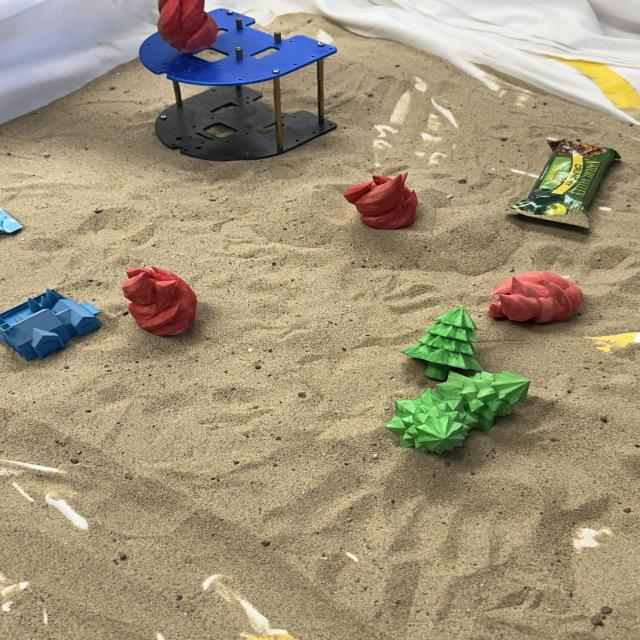fire: (120, 263, 198, 337), (489, 270, 584, 326), (341, 170, 420, 230), (159, 0, 217, 51)
house: (0, 287, 103, 362)
tree: (402, 305, 482, 382), (384, 388, 470, 455), (437, 370, 531, 430)
